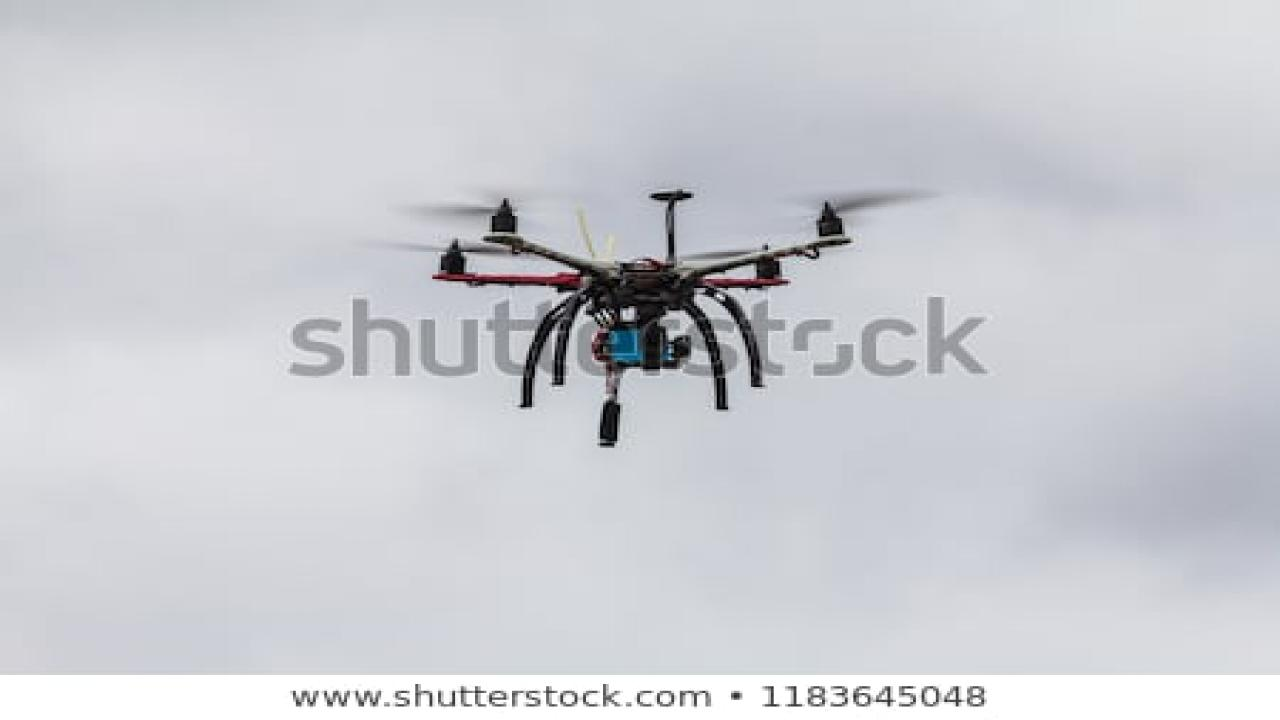Drone: (372, 177, 949, 457)
